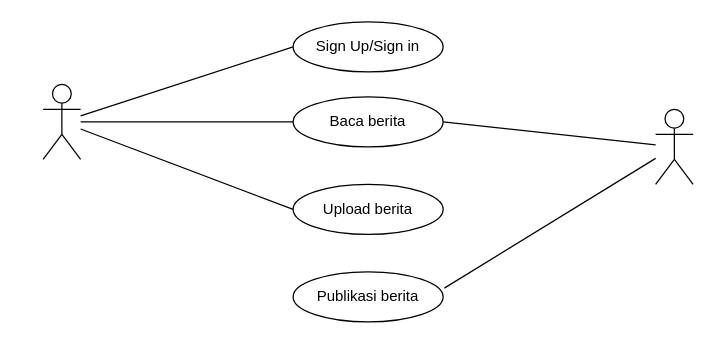
Some shapes in this 716 by 344 pixel diagram are drawn without their labels. The box of each missing label's shape, as (x1, y1, x2, y2) in pixels:
Admin: (654, 108, 693, 184)
Pengupload: (42, 83, 81, 159)
